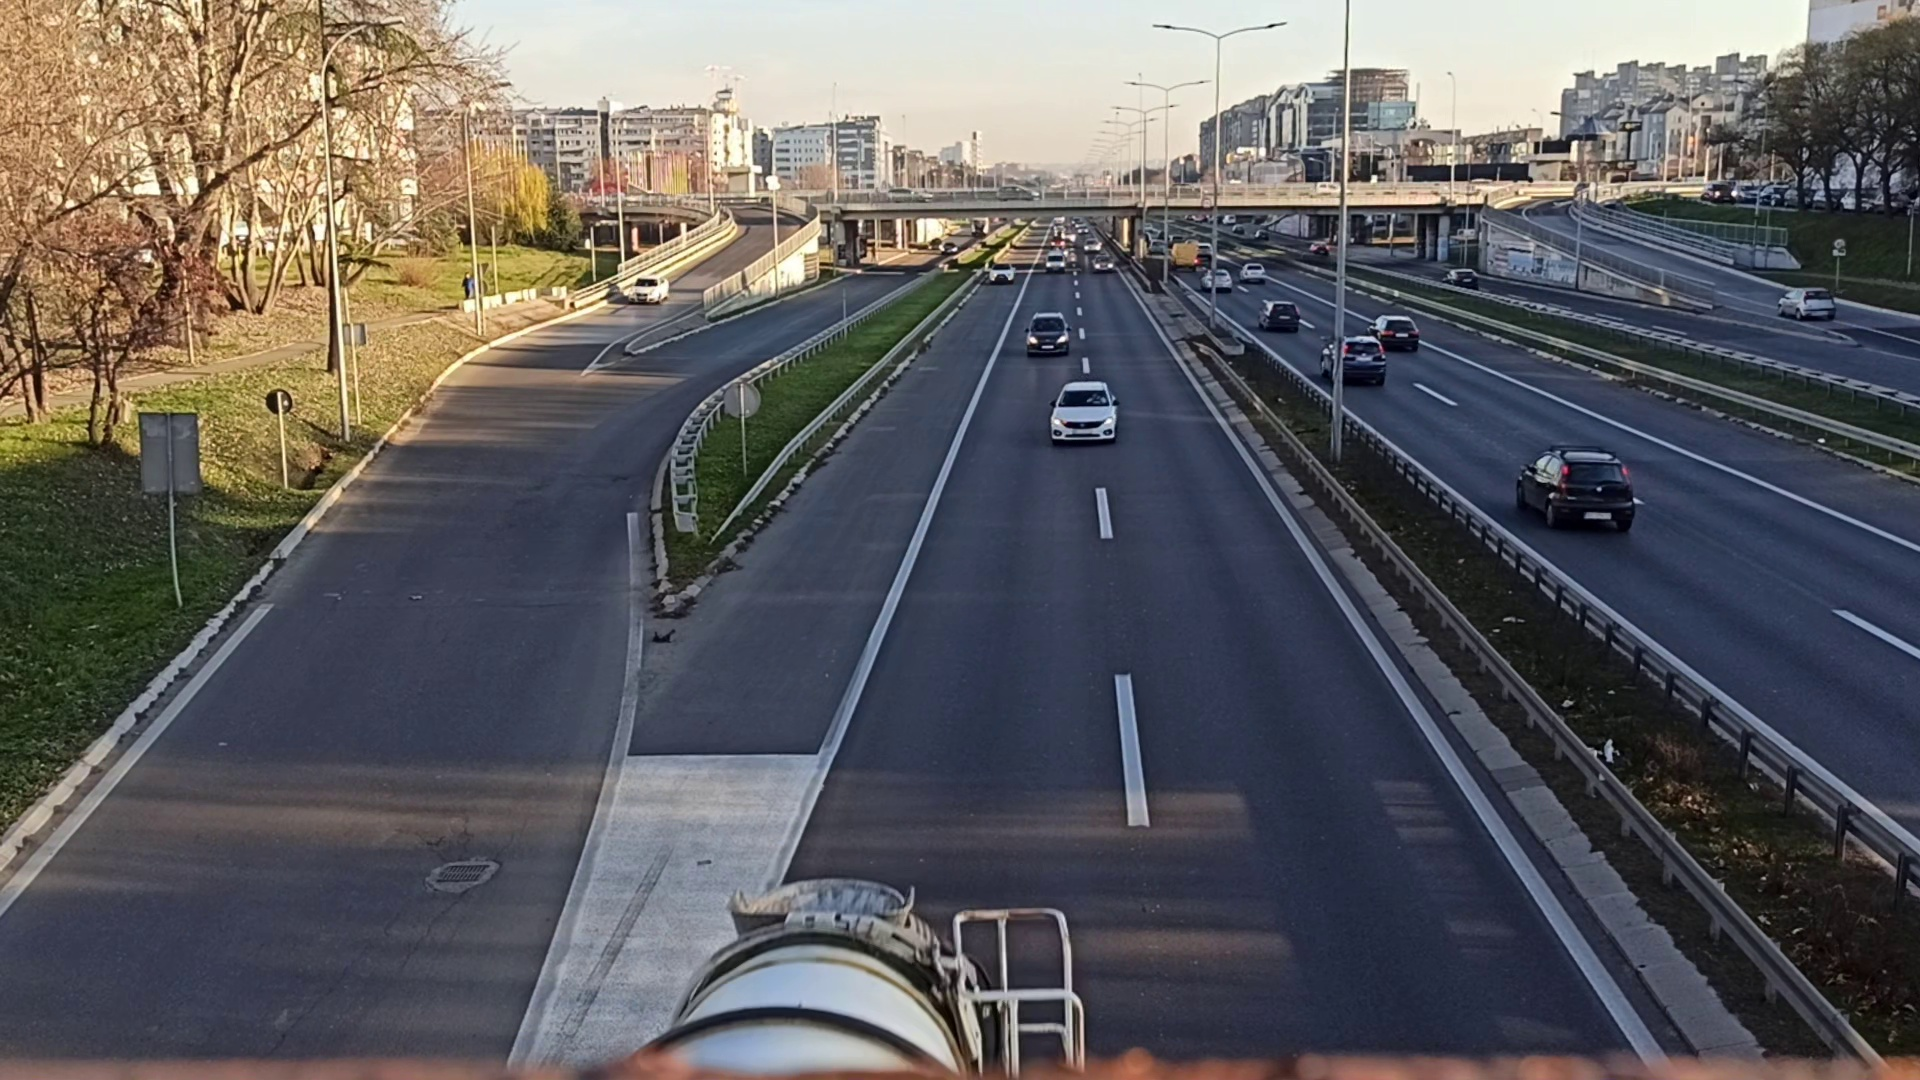car: (1516, 444, 1635, 539), (1052, 381, 1116, 444), (1317, 335, 1382, 384), (1025, 313, 1069, 357), (1369, 314, 1419, 349), (1257, 295, 1300, 334), (630, 274, 669, 305), (989, 260, 1015, 286), (1203, 269, 1232, 291), (1046, 255, 1068, 274), (1091, 255, 1113, 274), (1242, 262, 1263, 280)
